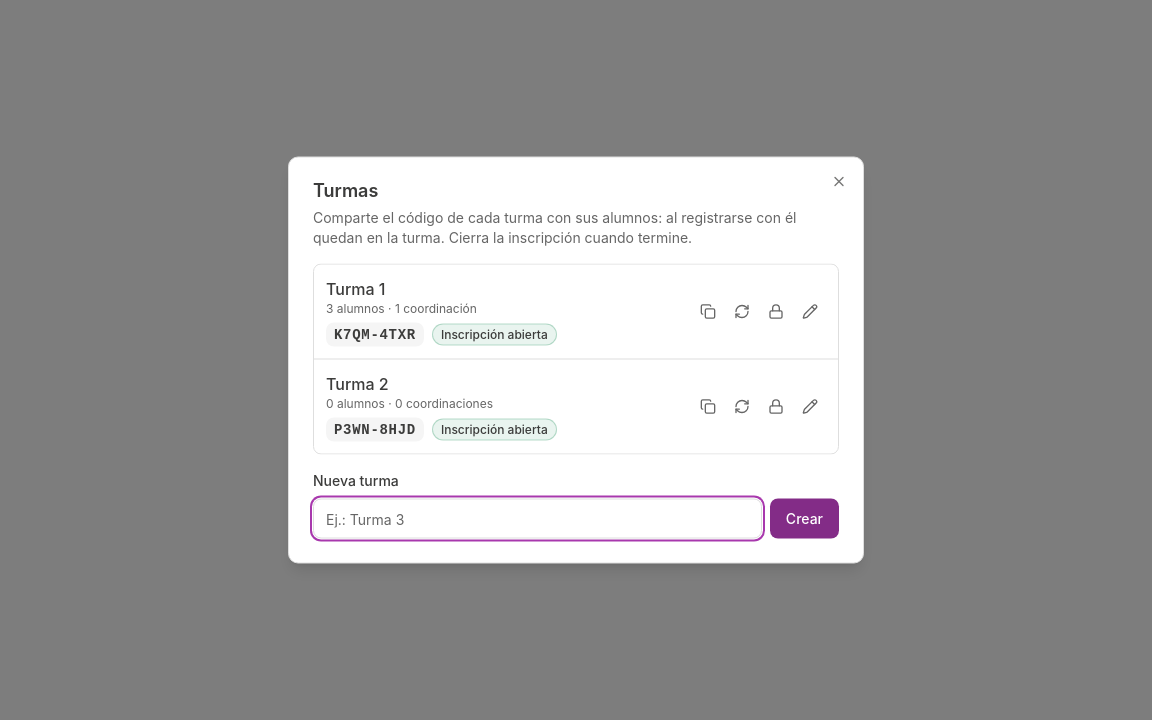
cohorts — Gestión del código y la inscripción en Turmas › código nuevo: pide confirmación y solo al confirmar lo genera
The width and height of the screenshot is (1152, 720).
Expected: the text "Turma 1" is shown, x1=326 y1=278 x2=386 y2=298
Click the button named "Generar un código nuevo para Turma 1" at (742, 312), box x1=726 y1=296 x2=758 y2=328
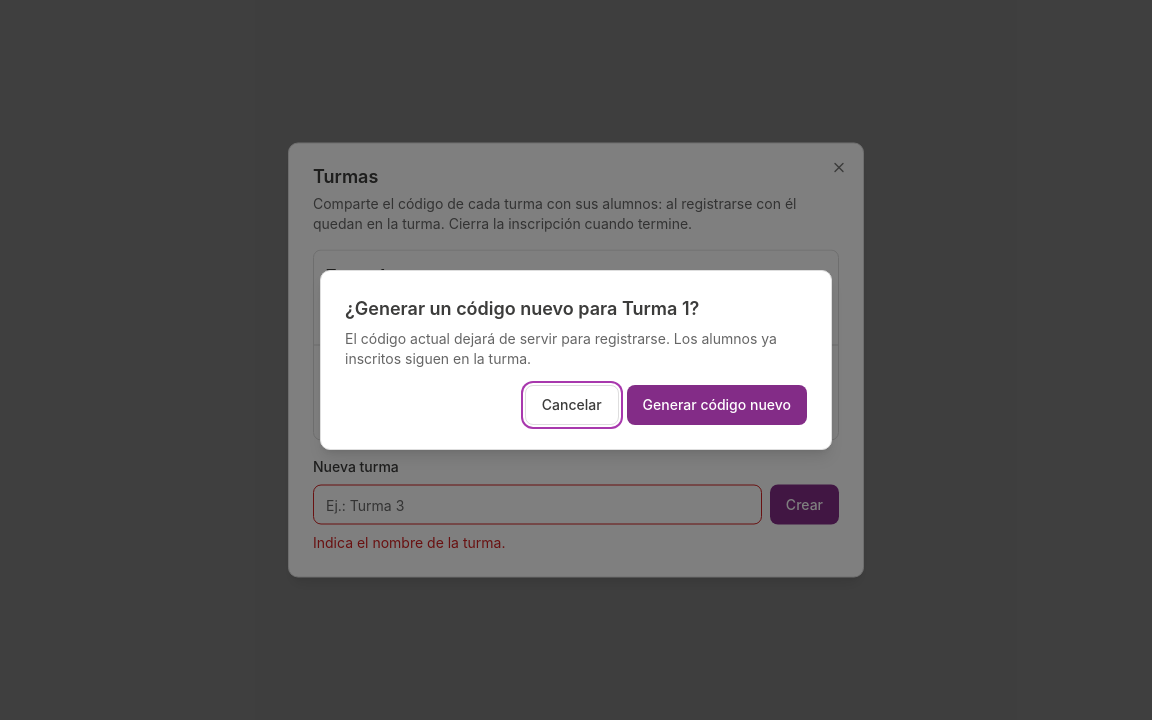
Expected: the text "dejará de servir" is shown, x1=345 y1=330 x2=777 y2=367
Click the button "Generar código nuevo" at (717, 405), box x1=627 y1=385 x2=807 y2=425
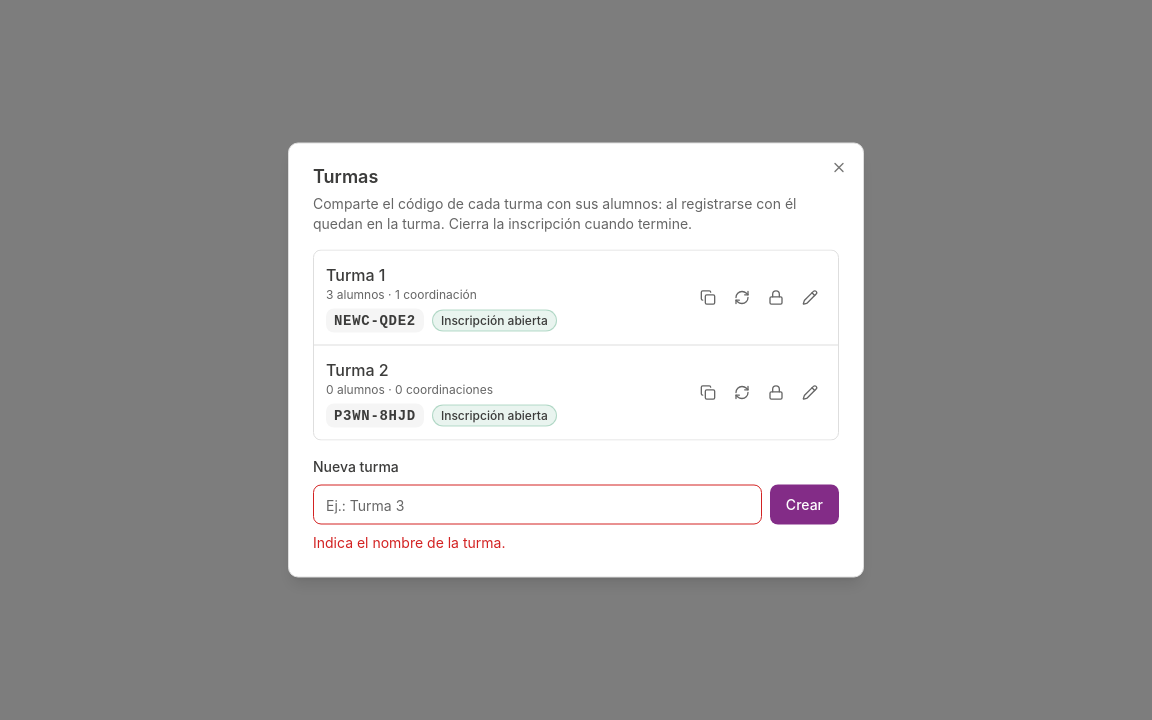
Expected: the text "NEWC-QDE2" is shown, x1=326 y1=308 x2=424 y2=332
